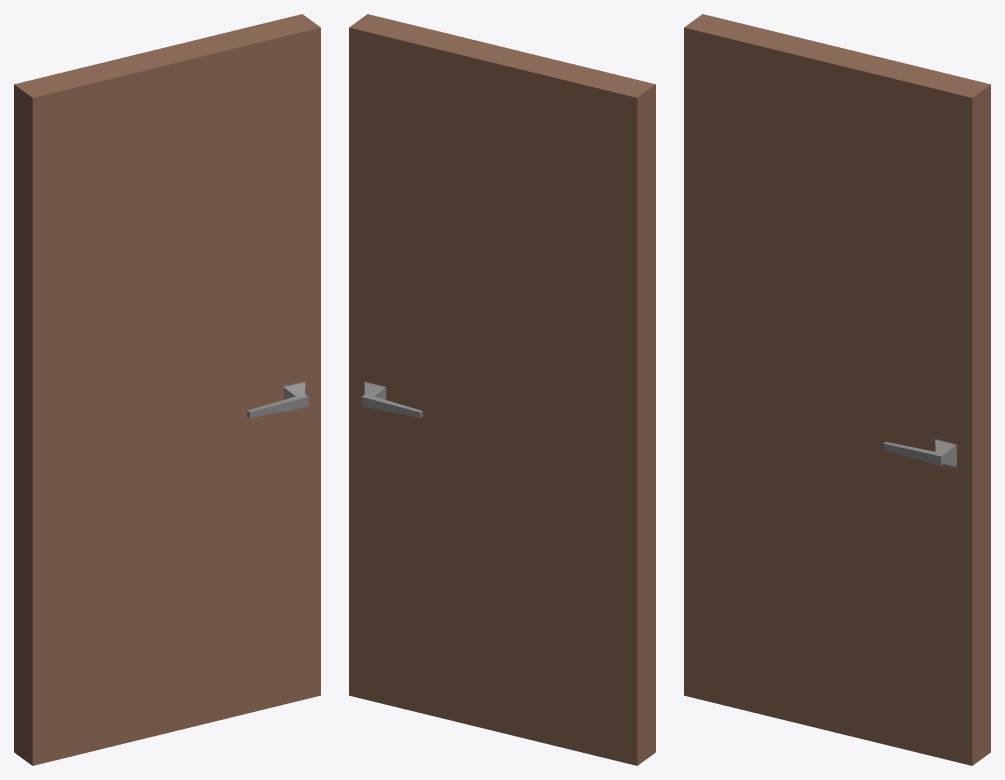
The model's file is door.fbx.
3 renders of one model, left to right at view 1: azimuth 30°, elevation 25°; view 2: azimuth 150°, elevation 25°; view 3: azimuth 330°, elevation 25°, orthographic.
Visible parts, largest first — view 1: door; view 2: door; view 3: door.
Part boxes in pixels (x1,y1,x2,y2): door: [14, 14, 320, 765]; door: [349, 14, 655, 765]; door: [684, 14, 990, 765].
Bounding box in the file's own units: 1.2 × 2.65 × 0.2703.
